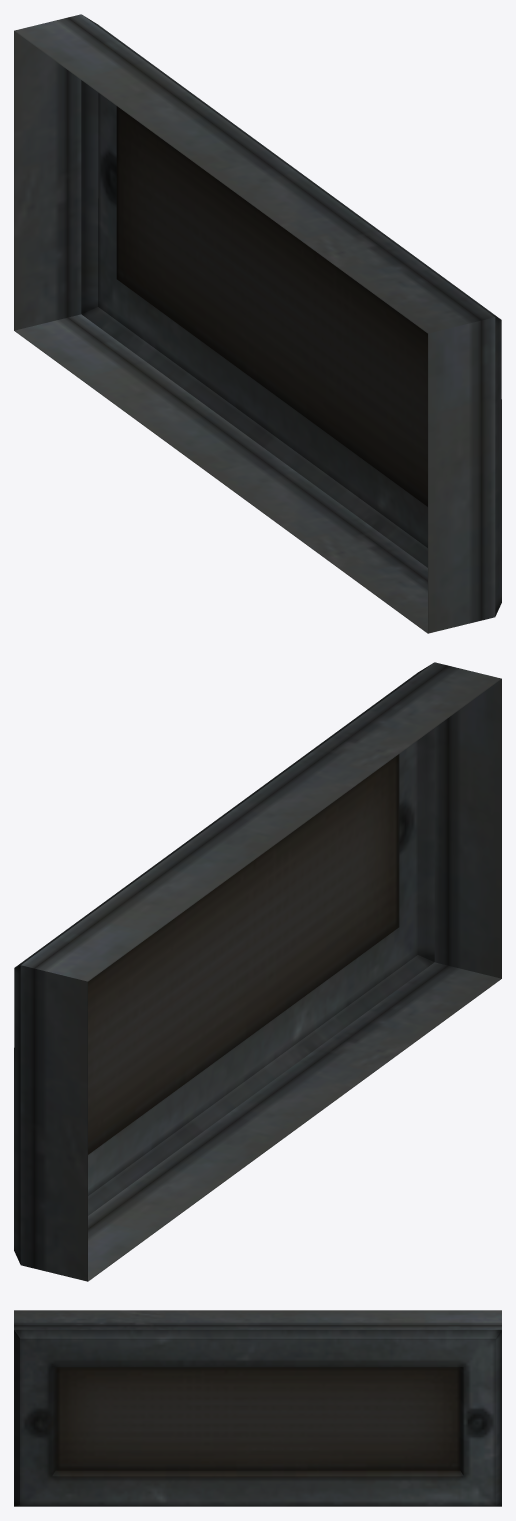
The model's file is light_outdoorwall03_lod0.glb.
3 views of the same model, one above another, from view 1: azimuth 30°, elevation 25°; view 2: azimuth 150°, elevation 25°; view 3: azimuth 270°, elevation 25° (orthographic). The views are drawn at different scales.
Visible parts, largest first — view 1: surf0; view 2: surf0; view 3: surf0.
Boxes of the visible parts, left/top/right/bottom form: surf0: left=14, top=14, right=501, bottom=633; surf0: left=14, top=662, right=501, bottom=1281; surf0: left=14, top=1310, right=501, bottom=1506.
Bounding box in the file's own units: 1.1 × 4 × 10.
